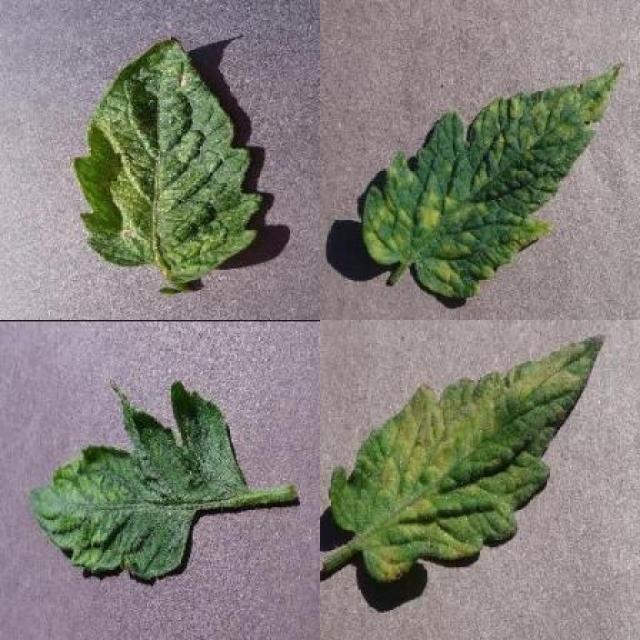Leaf Mold: (330, 332, 604, 582), (366, 63, 625, 298)
Mosaic Virus: (21, 382, 246, 582)
Spider Mites: (74, 35, 260, 285)
